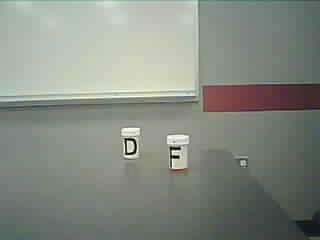Bottle D: (119, 125, 144, 162)
Bottle F: (166, 132, 194, 174)
